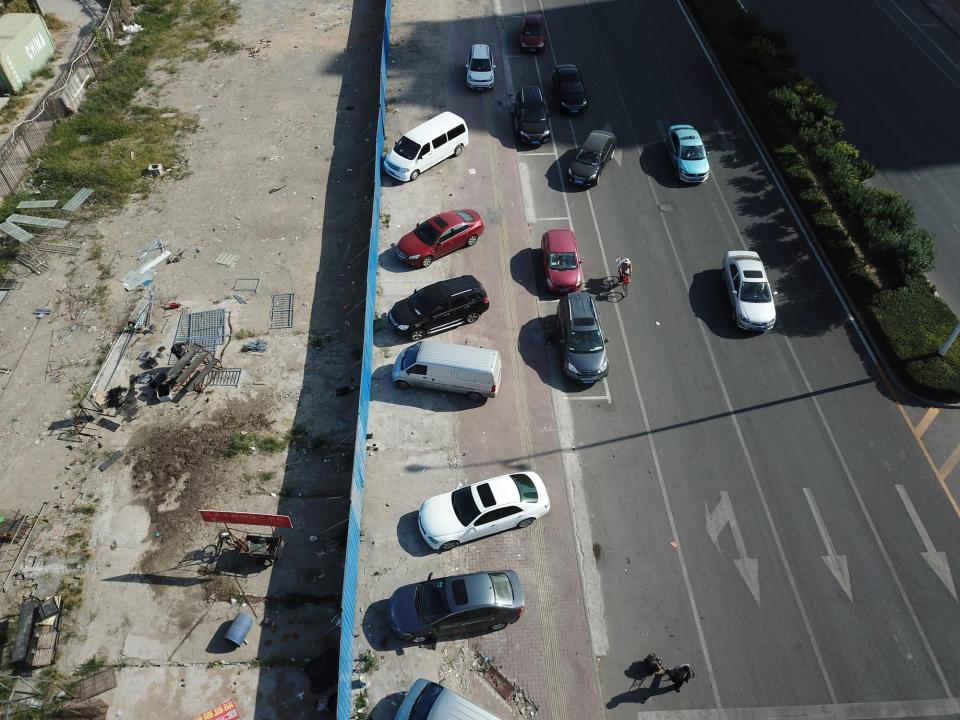car: (414, 468, 550, 552), (384, 567, 524, 643), (386, 274, 489, 340), (390, 340, 503, 399), (384, 111, 468, 181), (392, 207, 485, 267), (556, 291, 612, 385), (394, 676, 512, 720), (724, 248, 776, 330), (566, 127, 616, 188), (540, 225, 583, 292), (510, 84, 553, 146), (668, 122, 710, 182), (549, 63, 588, 116), (464, 43, 495, 89), (517, 10, 546, 51)
